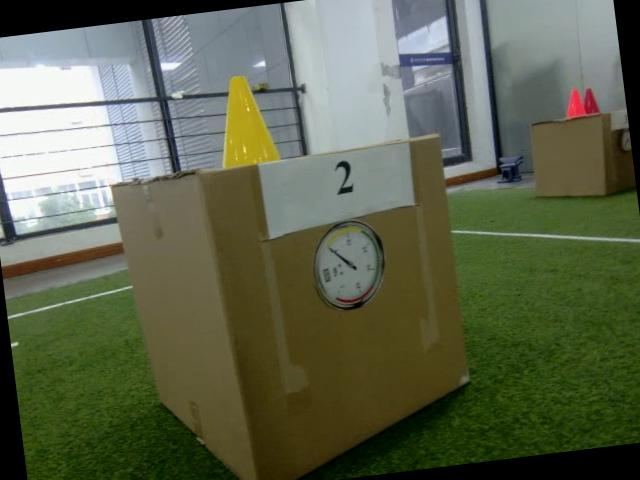2: (331, 156, 356, 197)
Dashboard: (306, 216, 390, 318)
orange_barrel: (559, 86, 587, 119)
red_barrel: (580, 86, 602, 117)
ssi: (322, 265, 333, 285)
yellow_barrel: (208, 67, 283, 169)
